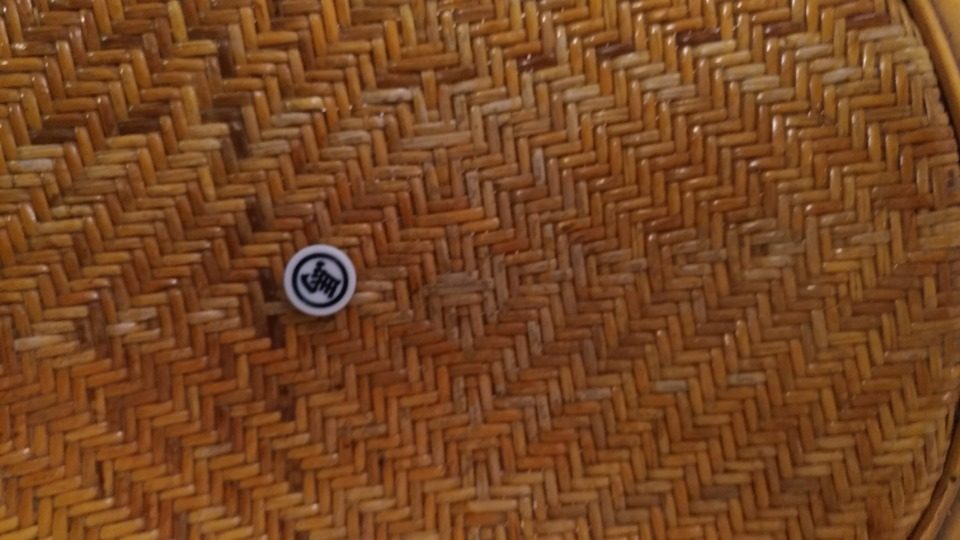b-knight: (275, 232, 371, 320)
